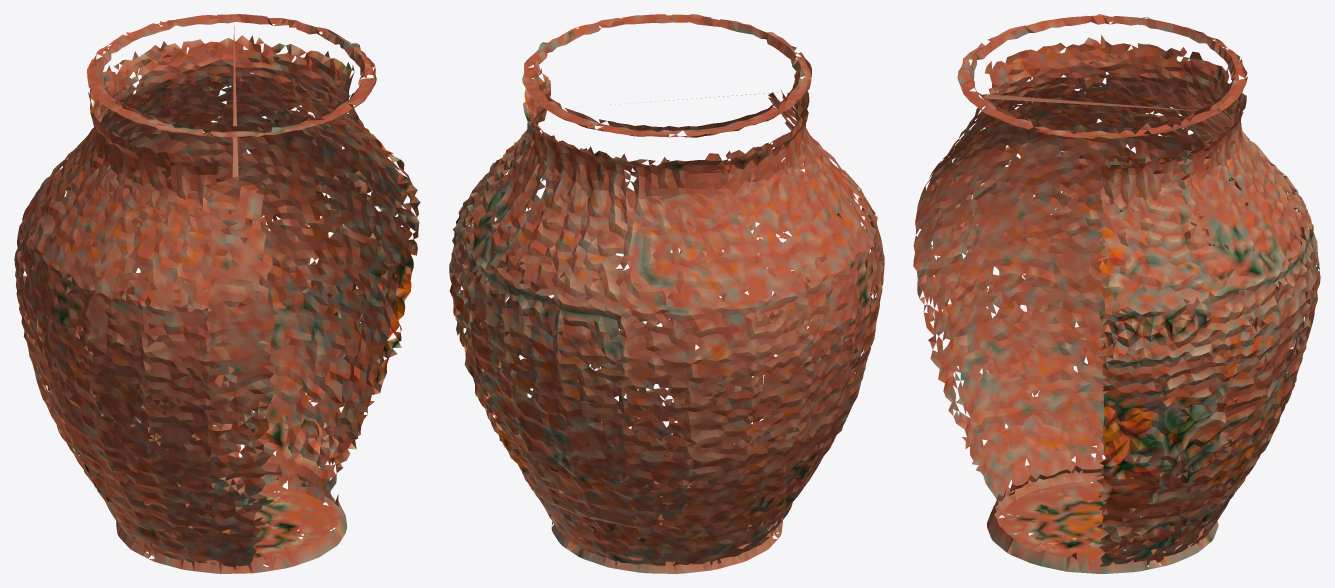
Rendered from vase2_final500.obj.
3 renders of one model, left to right at view 1: azimuth 30°, elevation 25°; view 2: azimuth 150°, elevation 25°; view 3: azimuth 270°, elevation 25°, orthographic.
Bounding box in the file's own units: 1.46 × 1.71 × 1.36.
